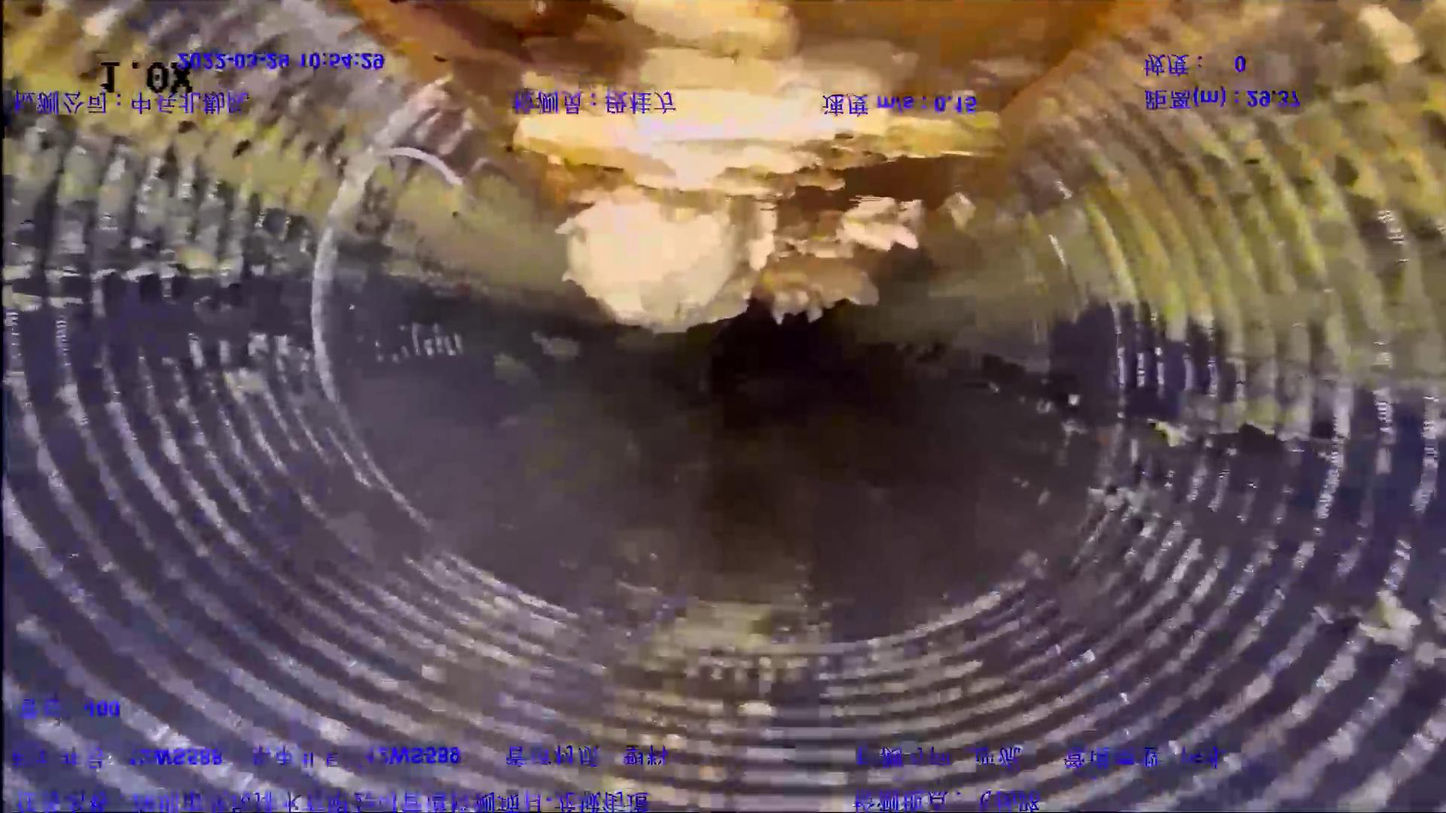ZAW: (510, 1, 996, 333)
